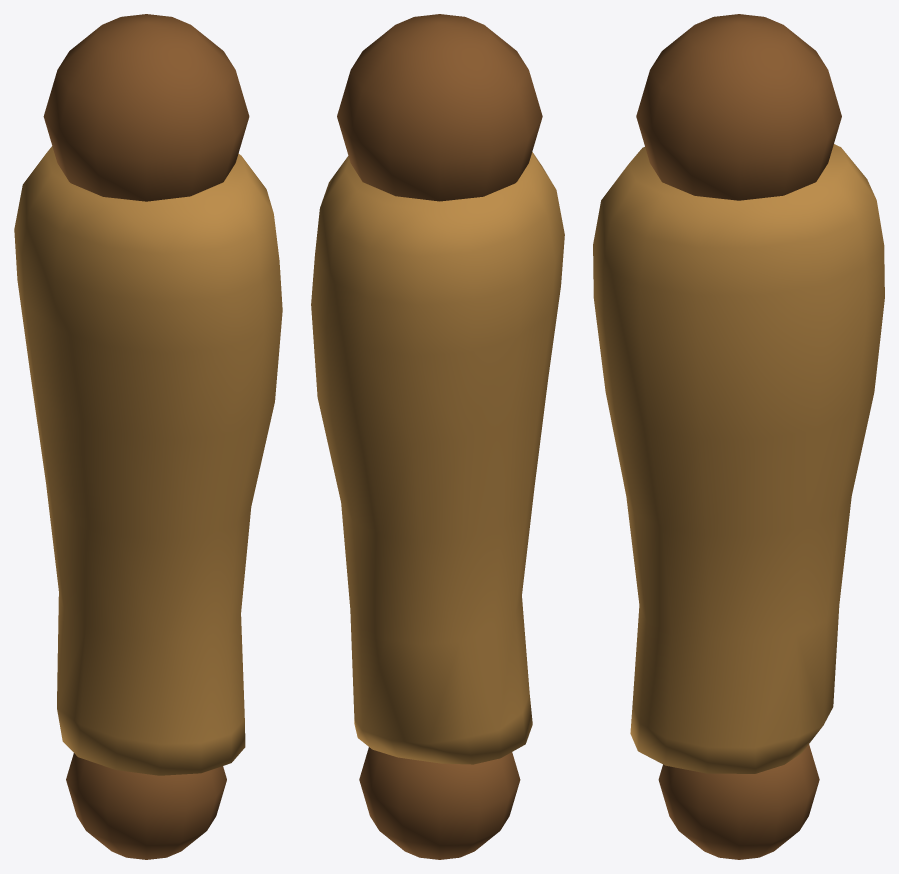
File: thigh_l.dae
3 renders of one model, left to right at view 1: azimuth 30°, elevation 25°; view 2: azimuth 150°, elevation 25°; view 3: azimuth 270°, elevation 25°, orthographic.
Parts seen in each view (by area): view 1: Uper_Leg_L_Skin, Hip_L_Skin, Knee_L_Skin; view 2: Uper_Leg_L_Skin, Hip_L_Skin, Knee_L_Skin; view 3: Uper_Leg_L_Skin, Hip_L_Skin, Knee_L_Skin.
Boxes of the visible parts, bbox=[...] form: Uper_Leg_L_Skin: bbox=[14, 146, 282, 775]; Hip_L_Skin: bbox=[43, 14, 249, 201]; Knee_L_Skin: bbox=[66, 753, 226, 859]; Uper_Leg_L_Skin: bbox=[311, 152, 564, 764]; Hip_L_Skin: bbox=[337, 14, 542, 201]; Knee_L_Skin: bbox=[359, 747, 520, 859]; Uper_Leg_L_Skin: bbox=[593, 144, 884, 773]; Hip_L_Skin: bbox=[636, 14, 841, 200]; Knee_L_Skin: bbox=[658, 744, 819, 859].
Size of the model in its own units: 4.77 by 5.71 by 17.88.
